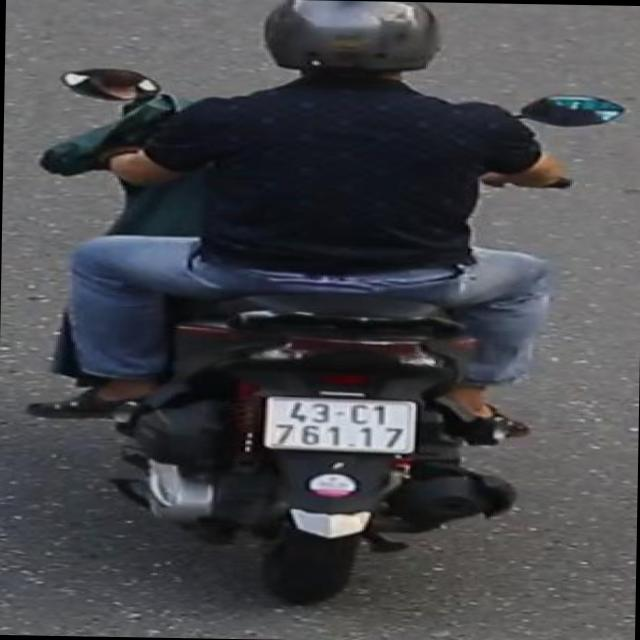LP: (257, 391, 424, 458)
helmet: (254, 1, 451, 98)
